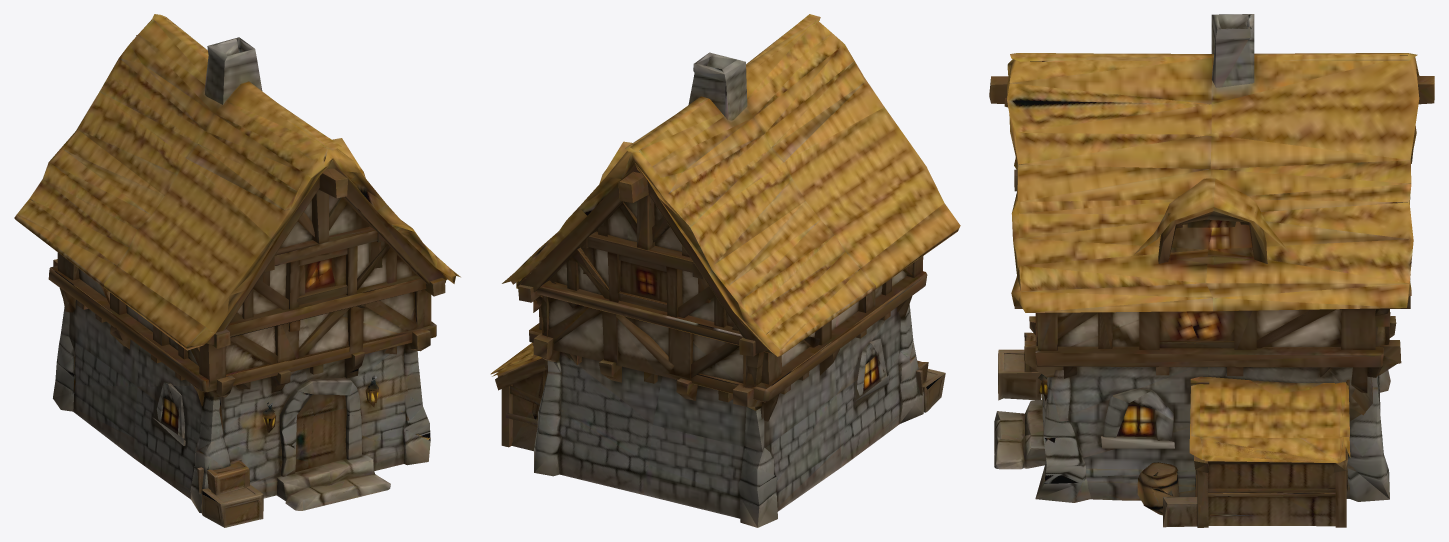
Rendered from obj_cottage.glb.
3 renders of one model, left to right at view 1: azimuth 30°, elevation 25°; view 2: azimuth 150°, elevation 25°; view 3: azimuth 270°, elevation 25°, orthographic. The views are drawn at different scales.
Parts seen in each view (by area): view 1: geometry_0; view 2: geometry_0; view 3: geometry_0.
Part boxes in pixels (<box>): geometry_0: <box>14,14,460,527</box>; geometry_0: <box>490,14,960,527</box>; geometry_0: <box>989,14,1434,527</box>.
Size of the model in its own units: 0.8345 by 0.9526 by 0.9146.
1 material, 1 textured.
